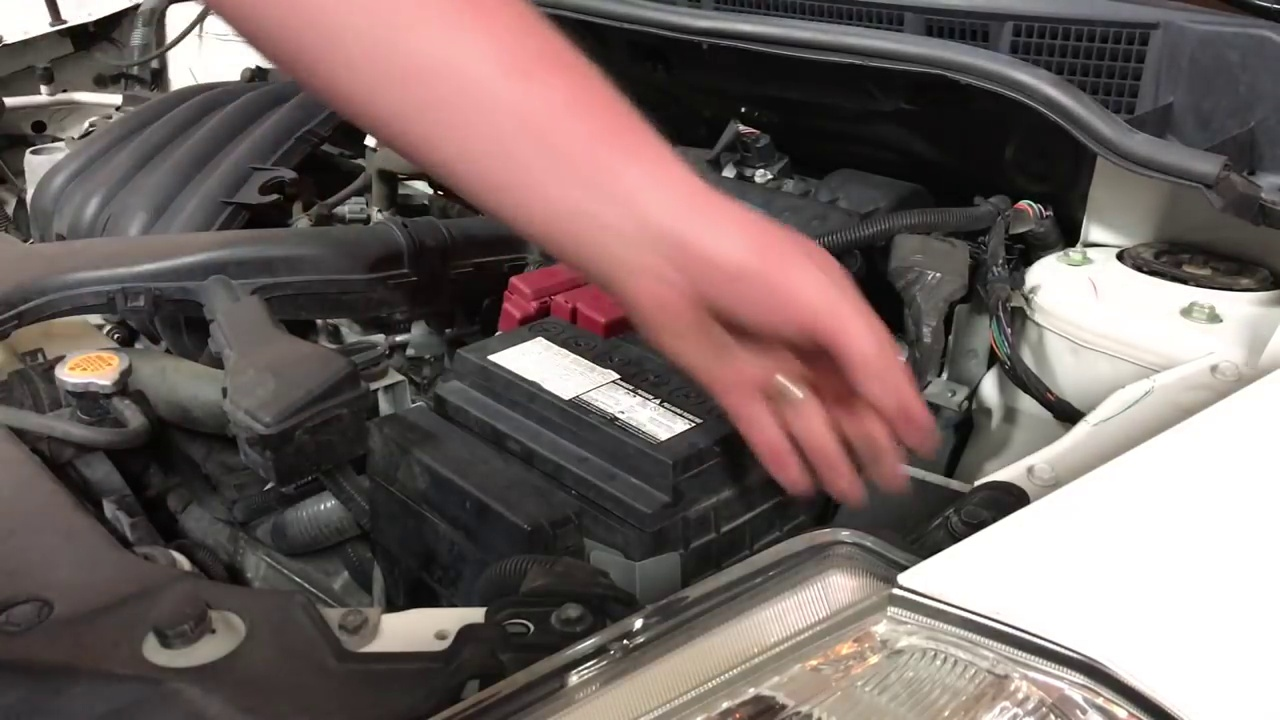battery: (449, 292, 813, 460)
pos_connected: (490, 252, 632, 351)
